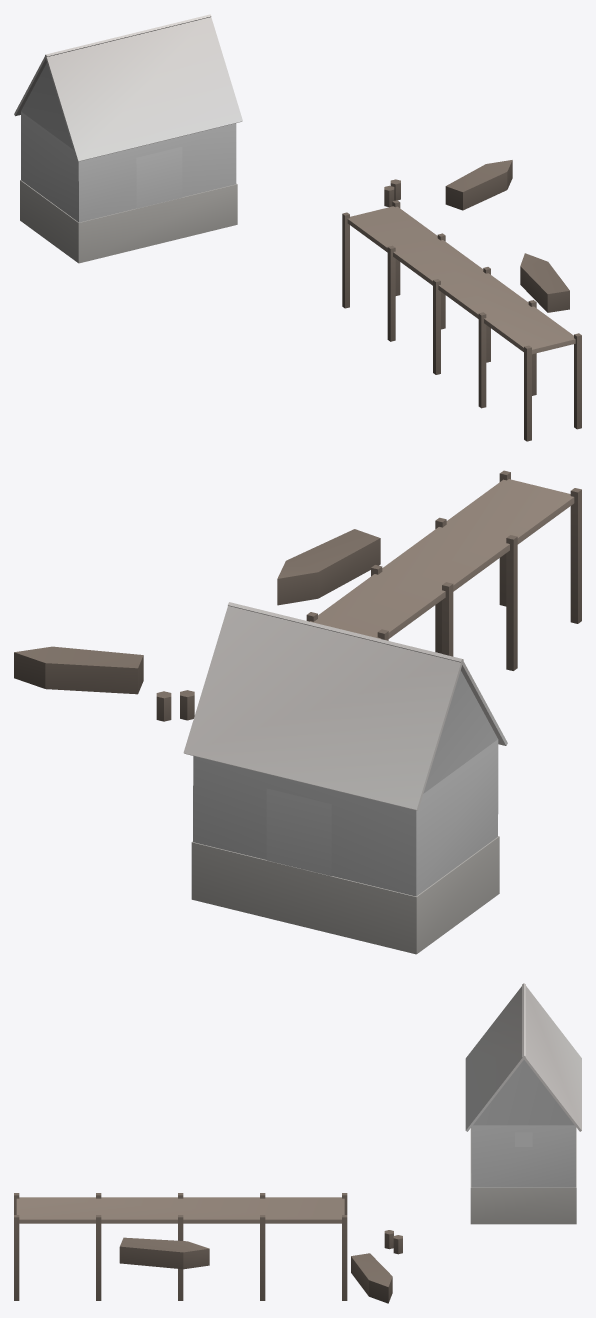
The model's file is port_1.glb.
The picture shows the model from 3 angles, top to bottom: view 1: azimuth 30°, elevation 25°; view 2: azimuth 150°, elevation 25°; view 3: azimuth 270°, elevation 25°; orthographic projection. The views are drawn at different scales.
Visible parts, largest first — view 1: port_1; view 2: port_1; view 3: port_1.
Part boxes in pixels (x1=…): port_1: x1=14, y1=14, x2=581, y2=441; port_1: x1=14, y1=470, x2=581, y2=954; port_1: x1=14, y1=983, x2=581, y2=1303.
Size of the model in its own units: 27.36 by 15.26 by 38.09.
